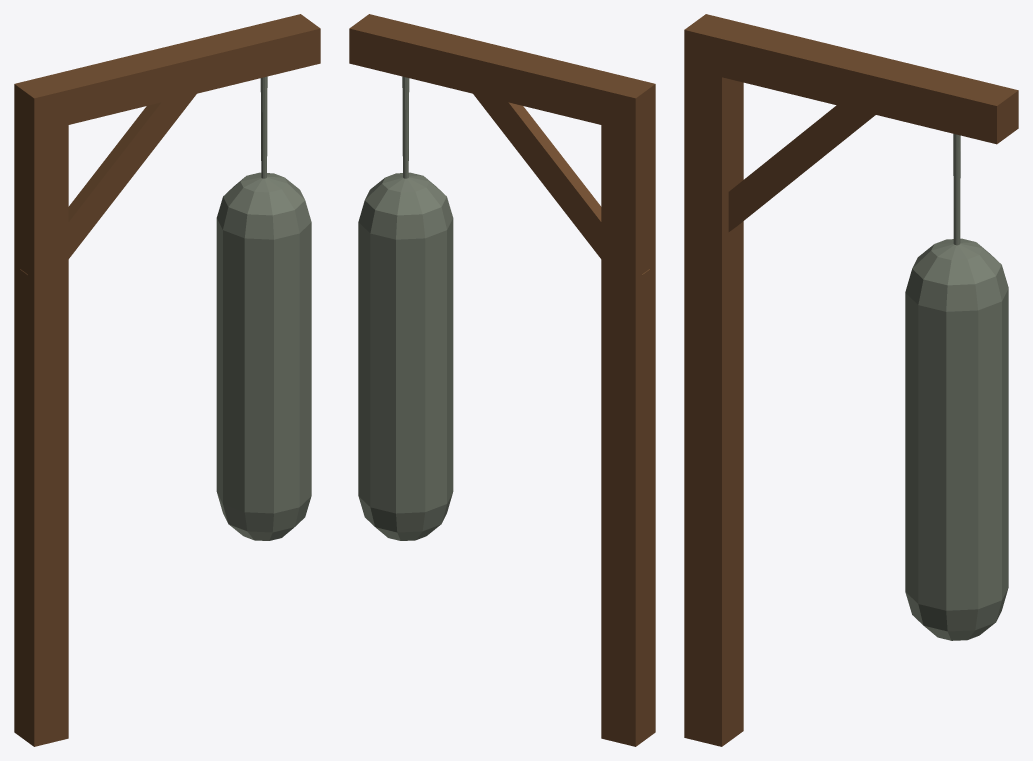
File: punching ball.fbx
The picture shows the model from 3 angles, left to right: view 1: azimuth 30°, elevation 25°; view 2: azimuth 150°, elevation 25°; view 3: azimuth 330°, elevation 25°; orthographic projection. The views are drawn at different scales.
Visible parts, largest first — view 1: punching_ball; view 2: punching_ball; view 3: punching_ball.
Boxes of the visible parts, x1,y1,x2,y2 form: punching_ball: [14, 14, 320, 746]; punching_ball: [349, 14, 655, 746]; punching_ball: [684, 14, 1018, 746].
Bounding box in the file's own units: 83.32 × 180 × 22.83.
Materials: 1 (1 with a texture image).
